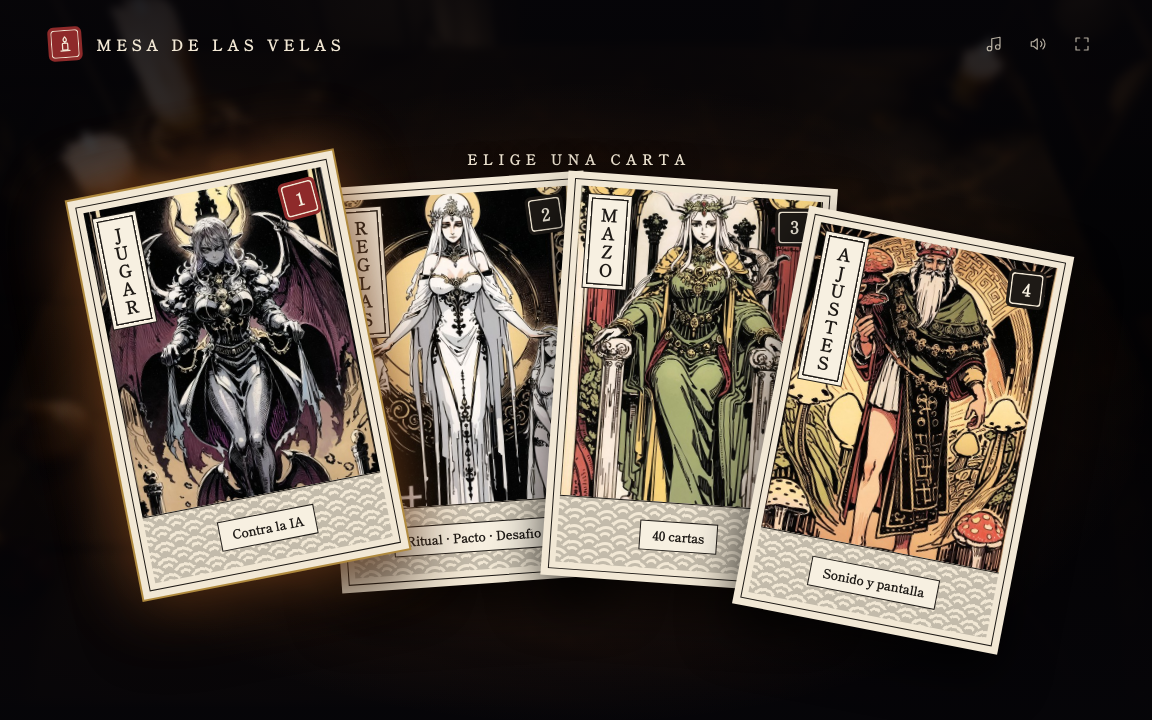
Test: the title screen › describes the hovered card under the fan
The width and height of the screenshot is (1152, 720).
Hover over the button "JUGAR 1 Contra la IA".
mouse_move(238, 375)  # box left=67, top=151, right=409, bottom=600
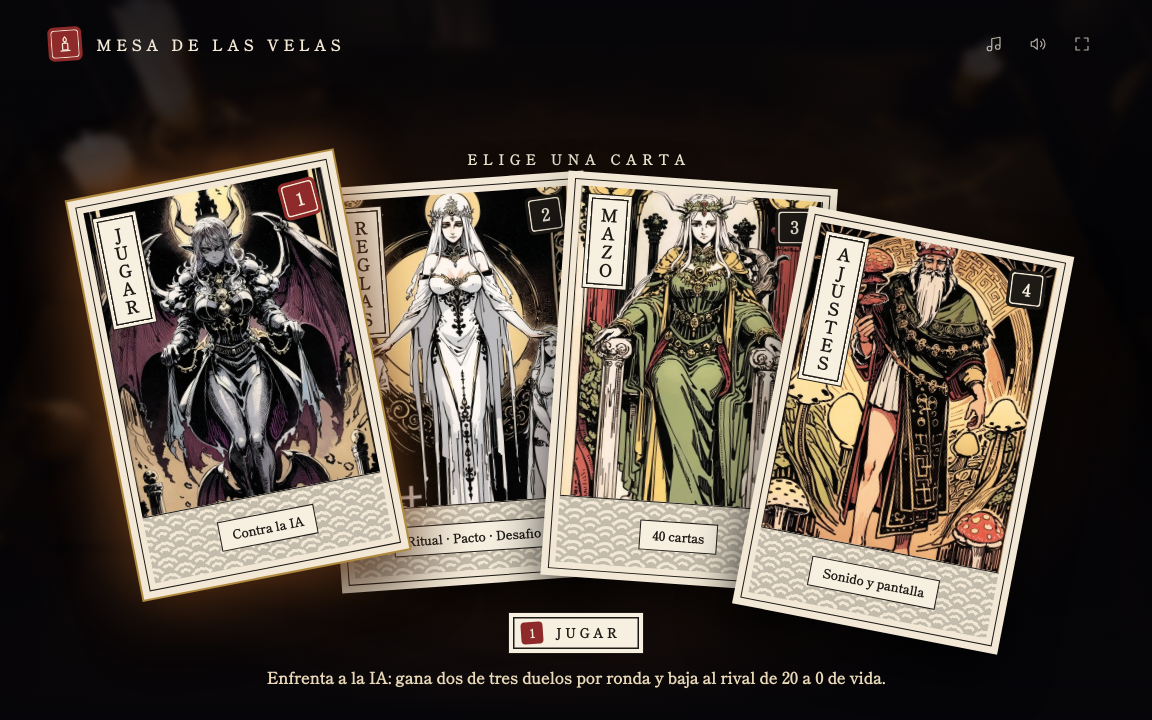
Now the text "baja al rival de 20 a 0 de vida" is shown, box left=266, top=665, right=885, bottom=689
Move the pointer off the button "JUGAR 1 Contra la IA", box left=67, top=151, right=409, bottom=600
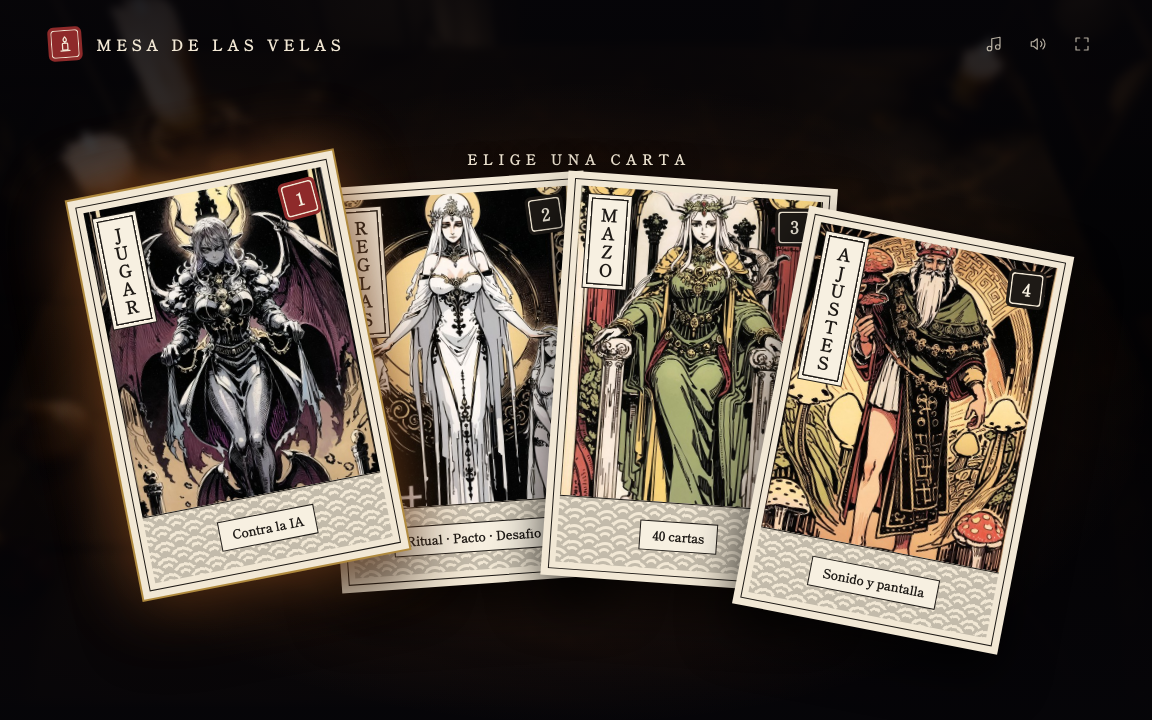
Now the text "baja al rival de 20 a 0 de vida" is gone
